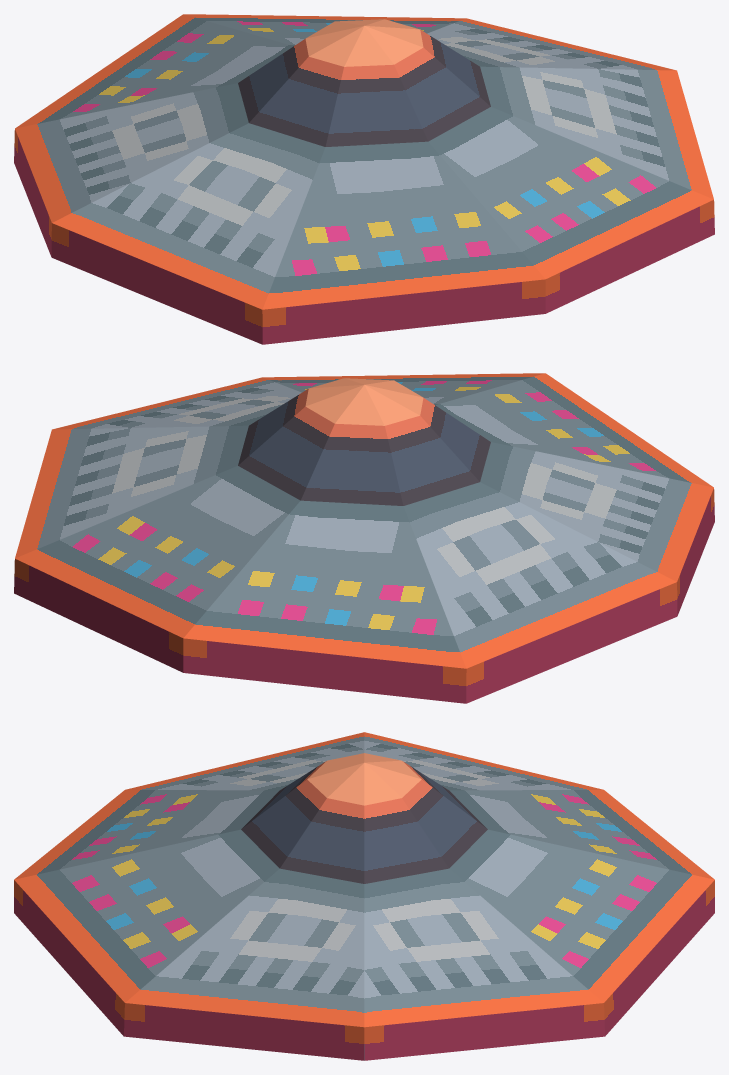
Rendered from spaceship.fbx.
3 views of the same model, one above another, from view 1: azimuth 30°, elevation 25°; view 2: azimuth 150°, elevation 25°; view 3: azimuth 270°, elevation 25° (orthographic). The views are drawn at different scales.
Parts seen in each view (by area): view 1: Spaceship; view 2: Spaceship; view 3: Spaceship.
Part boxes in pixels (box(x1,y1,x2,y2)): Spaceship: box(14, 14, 714, 344); Spaceship: box(14, 373, 714, 703); Spaceship: box(14, 732, 714, 1060).
Bounding box in the file's own units: 118 × 43.75 × 119.
1 material, 1 textured.
